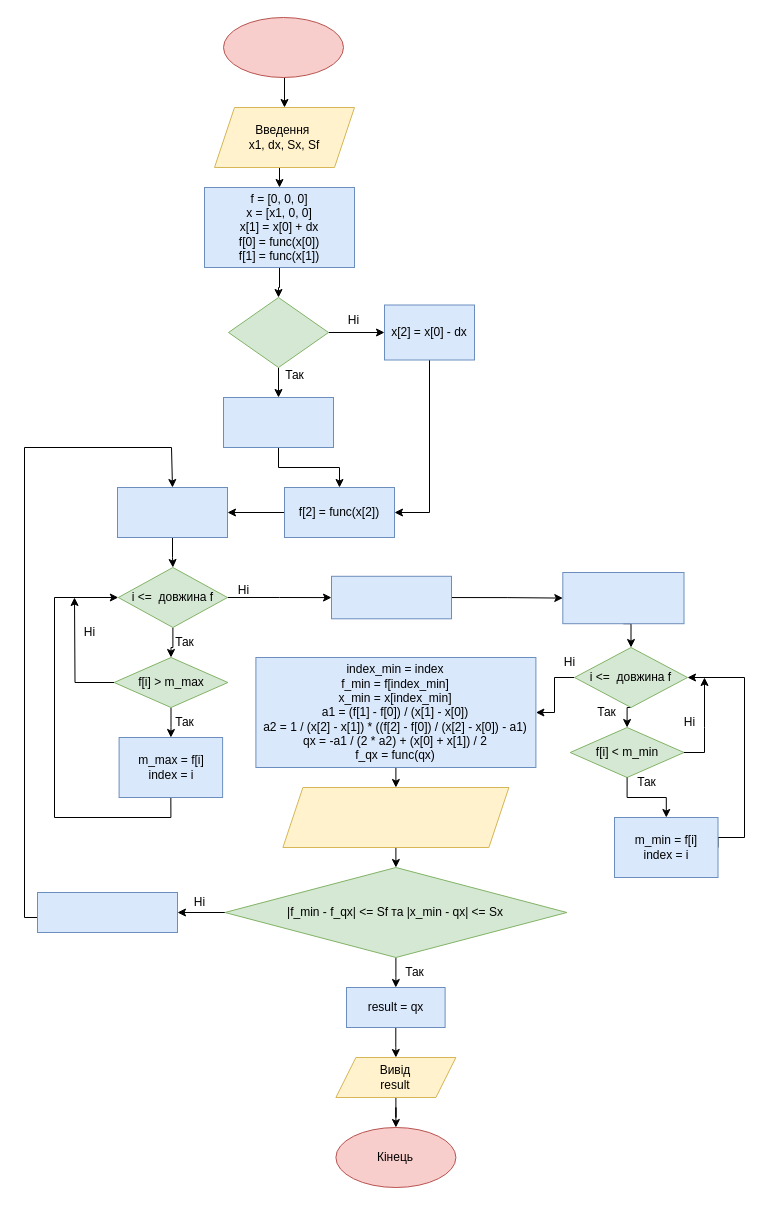
This 770x1205 diagram has some shape labels left out. The shapes that lost their labels are listed below. From the top down, each one's centre as x and y in pixels, then its label:
At point 283,47: "Початок".
At point 278,332: "f[0] > f[1]".
At point 278,422: "x[2] = x[0] + 2*dx".
At point 172,512: "m_max = f[0] index = 0 i = 1".
At point 391,597: "index_max = index".
At point 623,598: "m_min = f[0] index = 0 i = 1".
At point 395,817: "Вивід проміжних результатів x[0], x[1], x[2], f[0], f[1], f[2], qx, f_qx".
At point 107,912: "x[index_max] = qx f[index_max] = func(qx)".
